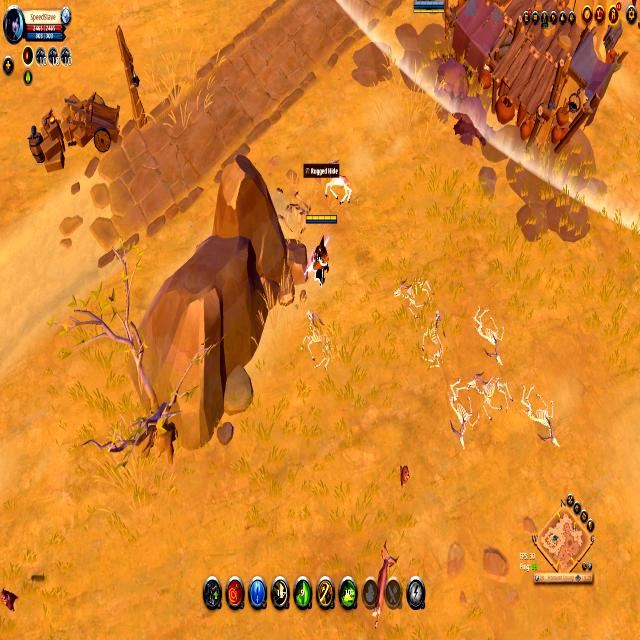mob: (321, 164, 353, 208)
ore: (371, 537, 401, 626)
red: (304, 211, 336, 286), (411, 1, 446, 14)
